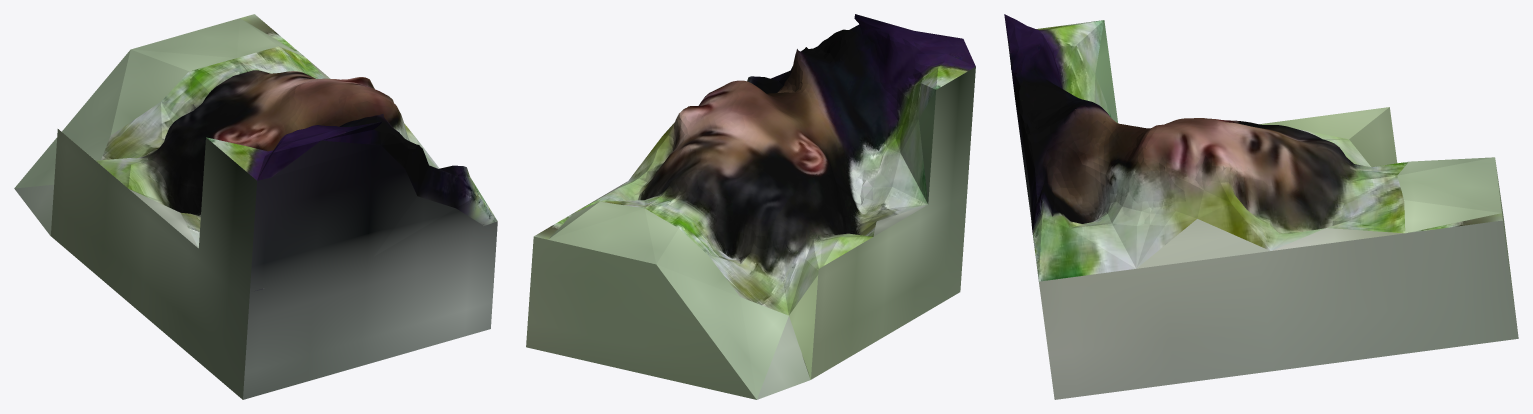
File: panaken.glb
The picture shows the model from 3 angles, left to right: view 1: azimuth 30°, elevation 25°; view 2: azimuth 150°, elevation 25°; view 3: azimuth 270°, elevation 25°; orthographic projection. The views are drawn at different scales.
Parts seen in each view (by area): view 1: Mesh_0_Part_0; view 2: Mesh_0_Part_0; view 3: Mesh_0_Part_0.
Boxes of the visible parts, x1,y1,x2,y2 form: Mesh_0_Part_0: (14,14,497,399); Mesh_0_Part_0: (526,14,975,399); Mesh_0_Part_0: (1004,14,1518,399).
Size of the model in its own units: 1.52 by 1.38 by 2.4.
Materials: 1 (1 with a texture image).
